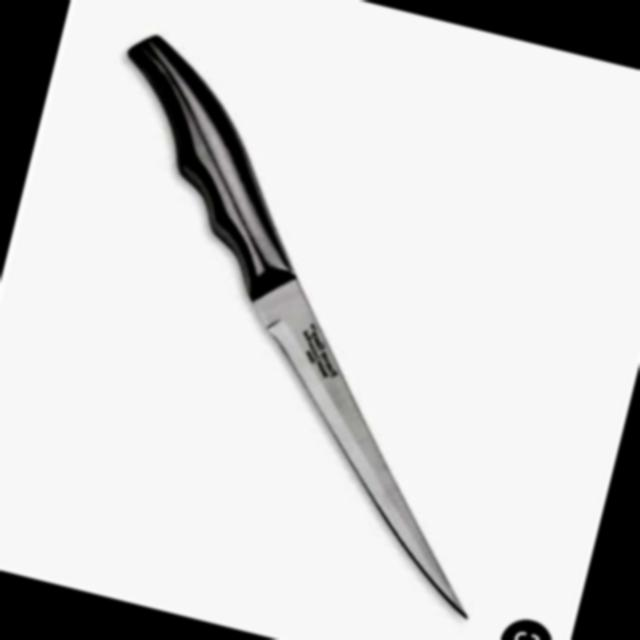knife: (6, 21, 590, 622)
